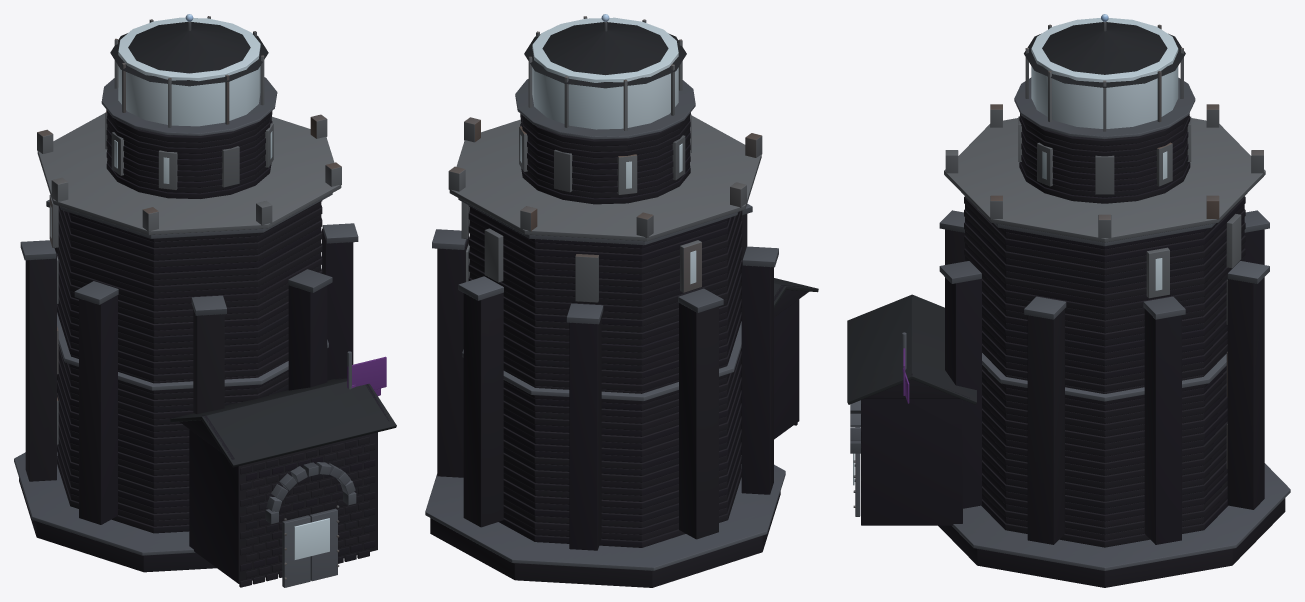
File: building_arcaneum.fbx
3 renders of one model, left to right at view 1: azimuth 30°, elevation 25°; view 2: azimuth 150°, elevation 25°; view 3: azimuth 270°, elevation 25°, orthographic. The views are drawn at different scales.
Visible parts, largest first — view 1: building_arcaneum; view 2: building_arcaneum; view 3: building_arcaneum.
Part boxes in pixels (box(x1,y1,x2,y2)): building_arcaneum: box(14, 14, 396, 587); building_arcaneum: box(425, 14, 818, 587); building_arcaneum: box(847, 14, 1290, 587).
Size of the model in its own units: 9.35 by 13.82 by 11.16.
